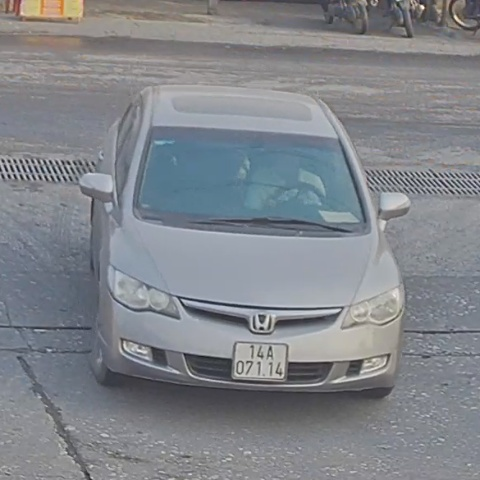vehicle plate: (229, 334, 292, 382)
